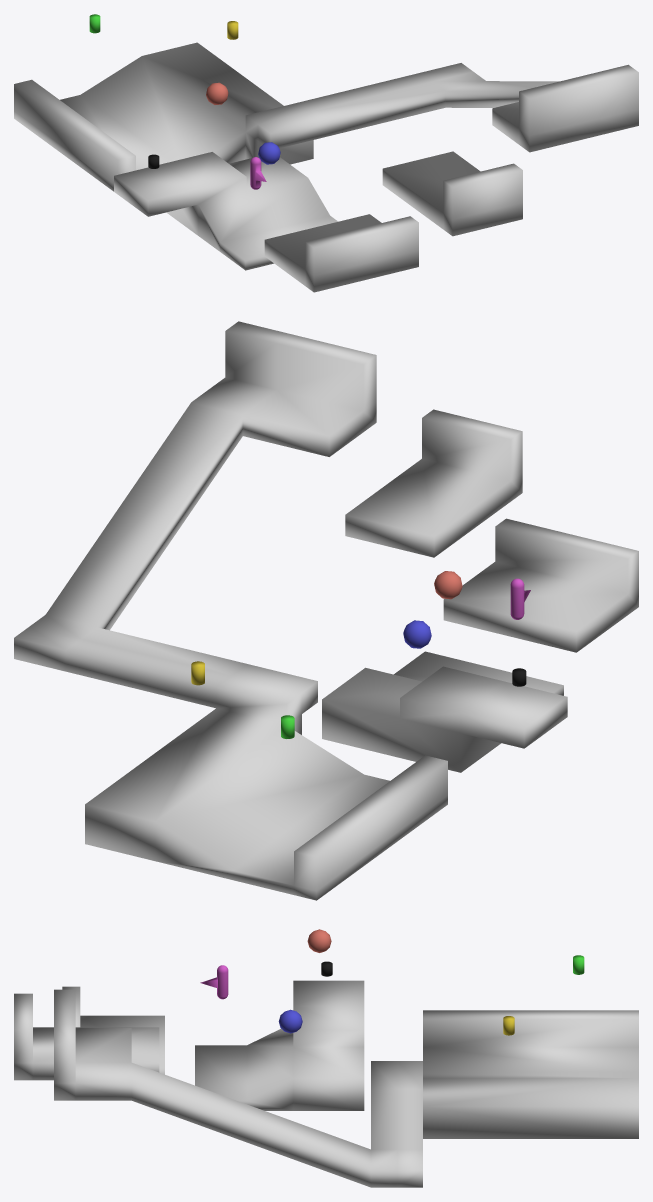
3 views of the same model, one above another, from view 1: azimuth 30°, elevation 25°; view 2: azimuth 150°, elevation 25°; view 3: azimuth 270°, elevation 25° (orthographic). The views are drawn at different scales.
Visible parts, largest first — view 1: ground, ball1, ball2; view 2: ground; view 3: ground, char, ball1, ball2.
Boxes of the visible parts, box(x1,y1,x2,y2) form: ground: box(14, 42, 638, 292); ball1: box(258, 142, 280, 164); ball2: box(206, 82, 228, 104); ground: box(14, 321, 638, 900); ground: box(14, 980, 638, 1187); char: box(200, 965, 228, 999); ball1: box(278, 1009, 302, 1033); ball2: box(307, 929, 331, 952).
Bounding box in the file's own units: 79.5 × 110 × 34.08.
